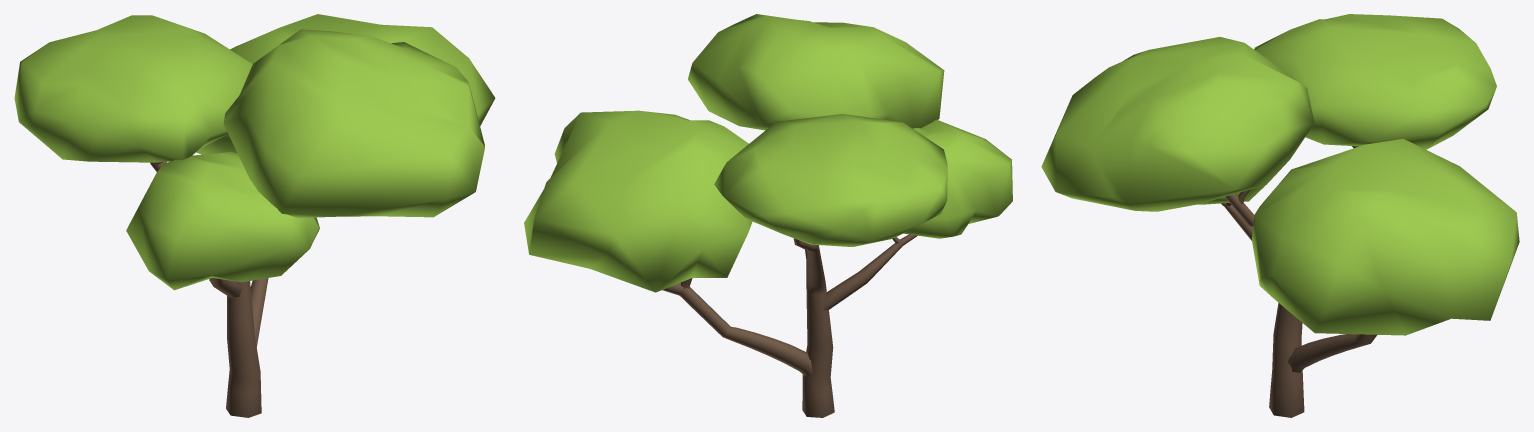
The model's file is tree_9.fbx.
3 renders of one model, left to right at view 1: azimuth 30°, elevation 25°; view 2: azimuth 150°, elevation 25°; view 3: azimuth 270°, elevation 25°, orthographic. The views are drawn at different scales.
Parts seen in each view (by area): view 1: Tube; view 2: Tube; view 3: Tube.
Part boxes in pixels (left/top/right/bottom): Tube: left=14, top=14, right=495, bottom=417; Tube: left=524, top=14, right=1012, bottom=417; Tube: left=1041, top=14, right=1519, bottom=417.
Size of the model in its own units: 48.37 by 39.39 by 45.23.
